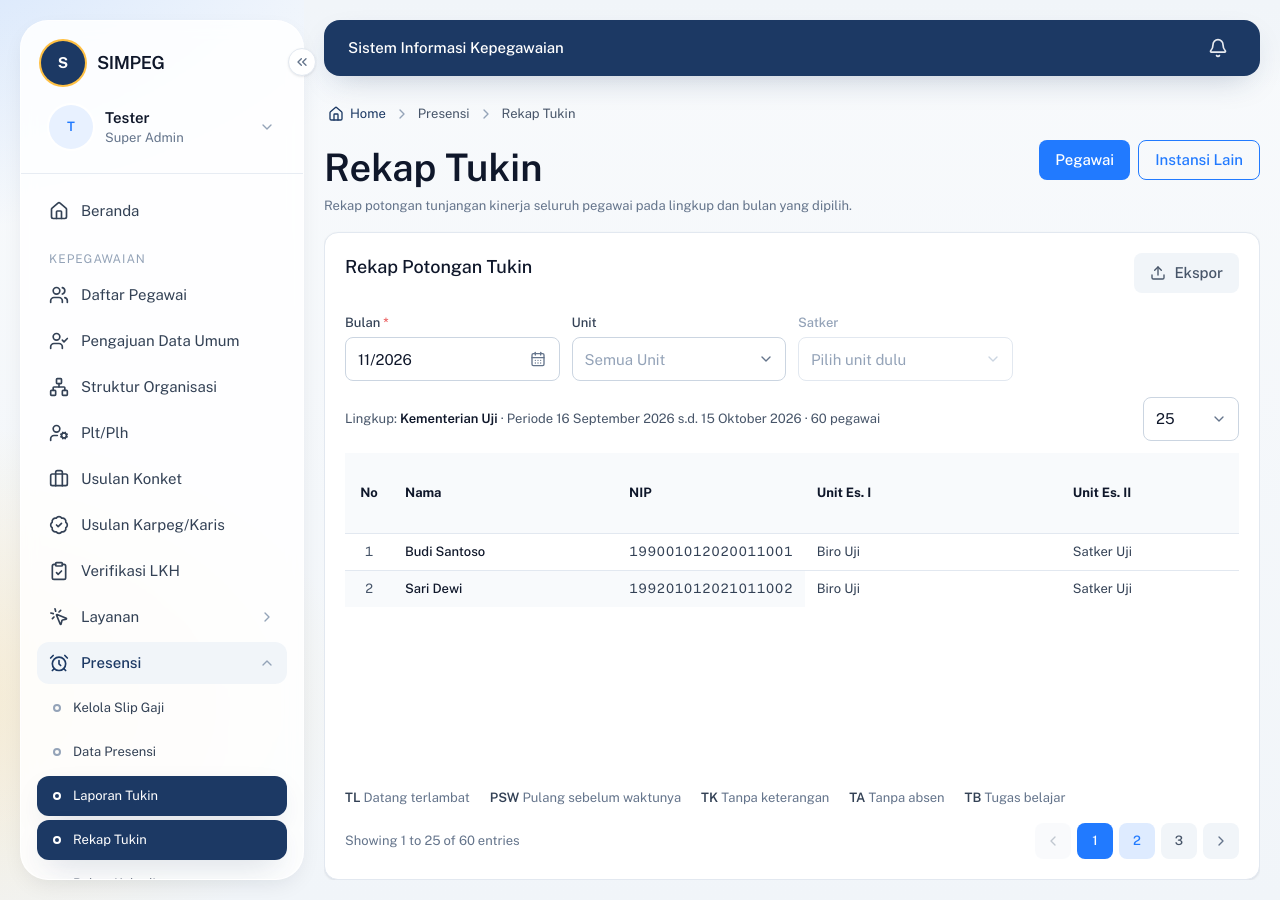
Scenario: RekapTukinPage › paginasi server: halaman 2 meminta page=2 dan nomor urut melanjutkan
Click the button "2" at (1137,841), box 1119,823 -> 1155,859
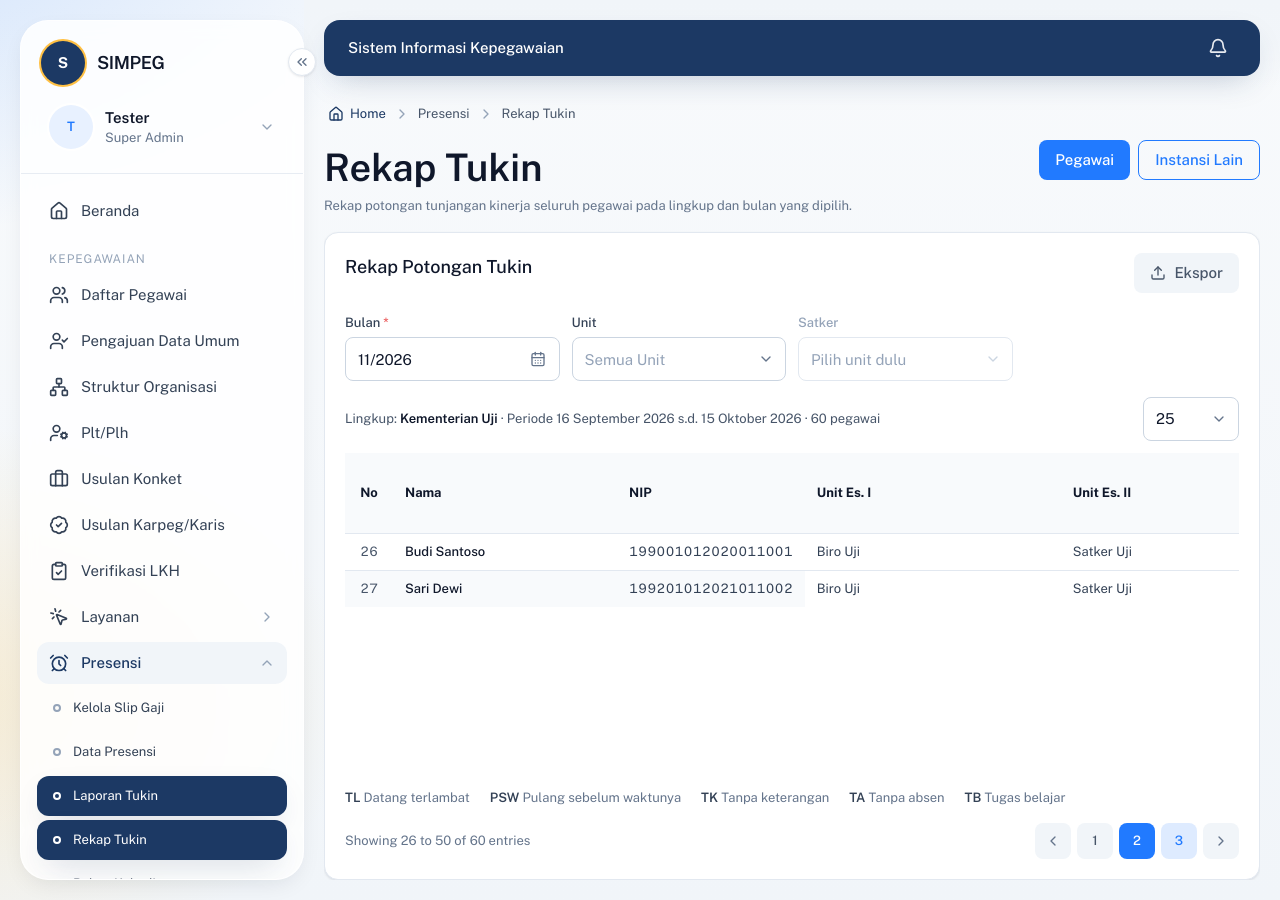
expect the cell "26" is shown: met, box 345,534 -> 393,570
